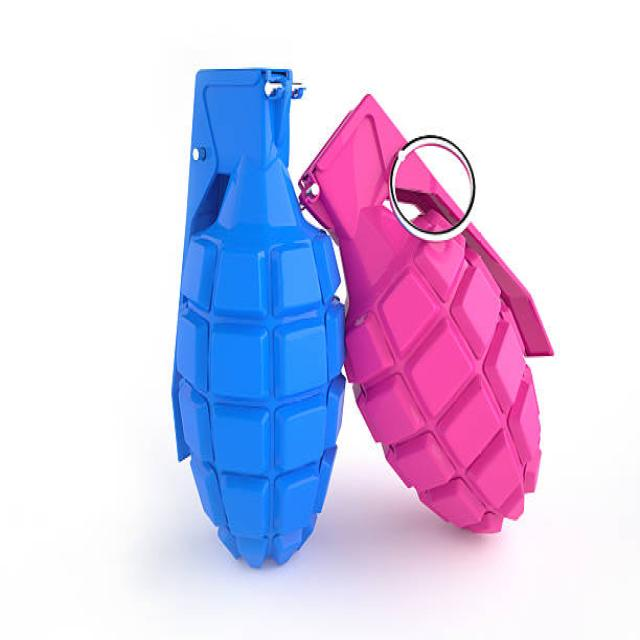grenade: (296, 87, 558, 544), (166, 58, 349, 577)
